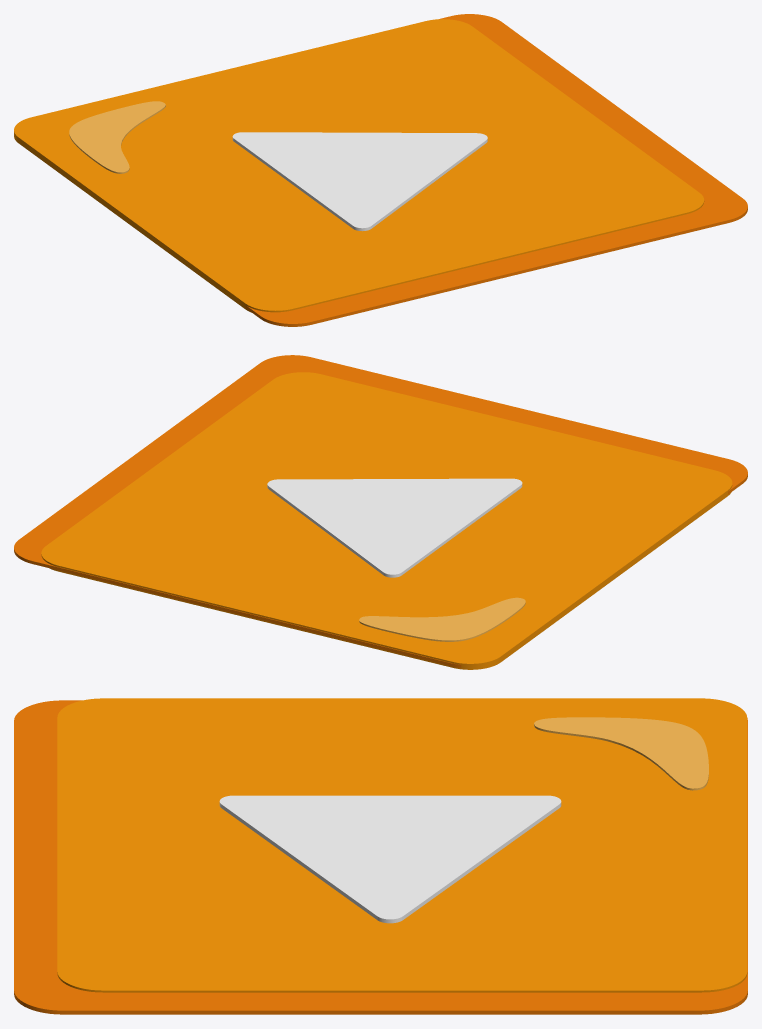
The model's file is emoji_u25b6.glb.
3 renders of one model, top to bottom at view 1: azimuth 30°, elevation 25°; view 2: azimuth 150°, elevation 25°; view 3: azimuth 270°, elevation 25°, orthographic. The views are drawn at different scales.
Parts seen in each view (by area): view 1: emoji_u25b6; view 2: emoji_u25b6; view 3: emoji_u25b6.
Boxes of the visible parts, x1=… form: emoji_u25b6: x1=14, y1=14, x2=747, y2=326; emoji_u25b6: x1=14, y1=355, x2=747, y2=669; emoji_u25b6: x1=14, y1=698, x2=747, y2=1014.
Size of the model in its own units: 0.0339 by 0.0008 by 0.0339.
